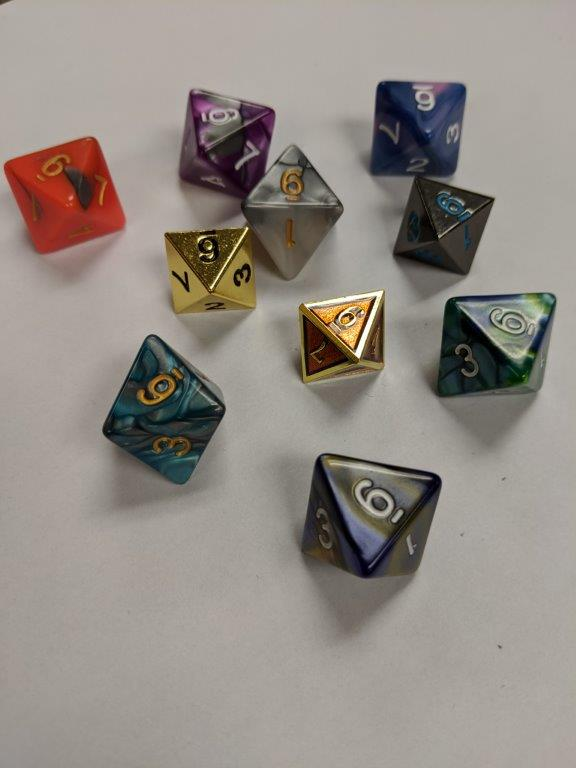d8-6: (104, 333, 226, 486), (297, 454, 442, 581), (5, 133, 129, 256), (432, 290, 558, 402), (243, 144, 347, 277), (176, 85, 274, 198), (389, 176, 497, 277), (368, 79, 469, 178), (297, 288, 387, 385), (165, 226, 259, 317)
